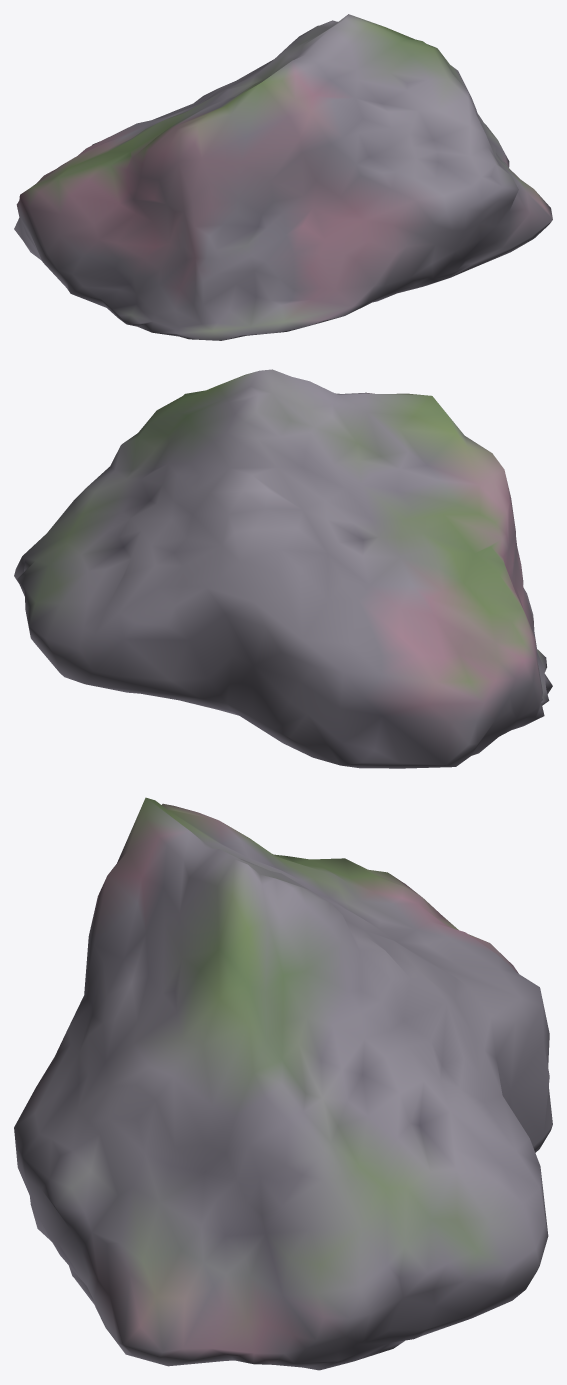
Rendered from boulder-3.glb.
3 views of the same model, one above another, from view 1: azimuth 30°, elevation 25°; view 2: azimuth 150°, elevation 25°; view 3: azimuth 270°, elevation 25° (orthographic). The views are drawn at different scales.
Parts seen in each view (by area): view 1: Boulder_3; view 2: Boulder_3; view 3: Boulder_3.
Boxes of the visible parts, box(x1,y1,x2,y2) form: Boulder_3: box(14, 14, 552, 340); Boulder_3: box(14, 369, 552, 768); Boulder_3: box(14, 797, 552, 1370).
Size of the model in its own units: 0.8865 by 0.4496 by 0.5571.
